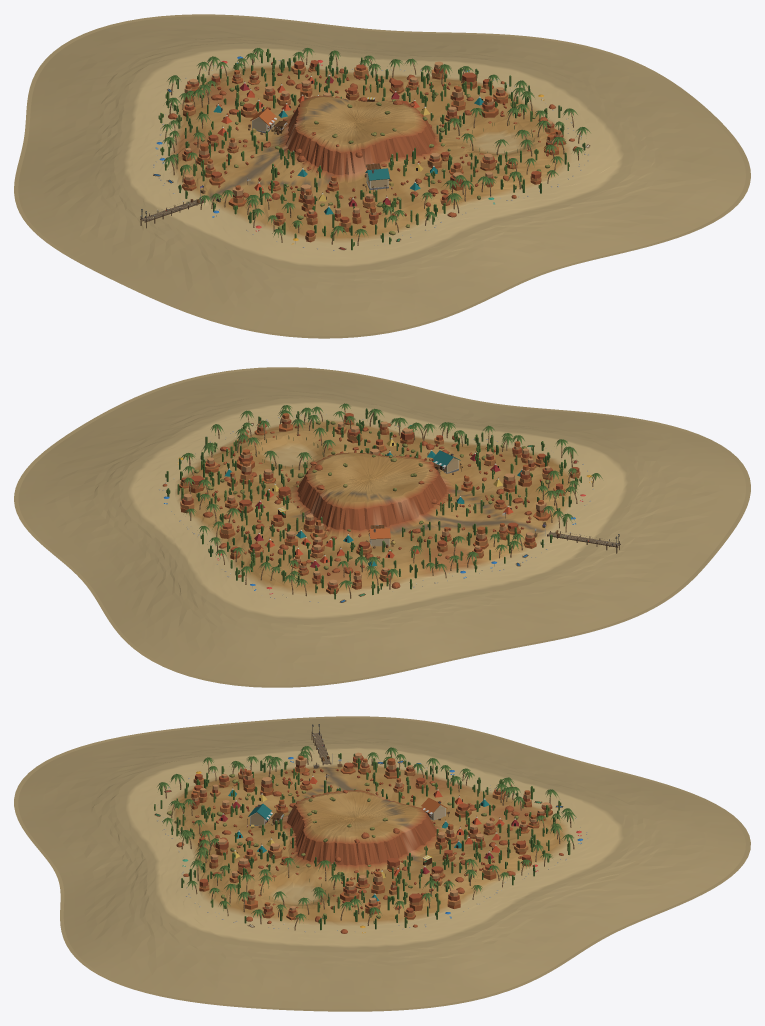
File: dune.glb
3 renders of one model, top to bottom at view 1: azimuth 30°, elevation 25°; view 2: azimuth 150°, elevation 25°; view 3: azimuth 270°, elevation 25°, orthographic. The views are drawn at different scales.
Parts seen in each view (by area): view 1: dune_13_-2, dune_12_-2, dune_14_-2, dune_12_-3, dune_13_-3, dune_14_-3, dune_13_-4, dune_13_-1, dune_12_-1, dune_14_-1, dune_12_-4, dune_15_-2 (+5 smaller); view 2: dune_13_-4, dune_13_-3, dune_12_-3, dune_12_-2, dune_14_-3, dune_14_-2, dune_13_-2, dune_12_-4, dune_14_-4, dune_12_-1, dune_15_-3, dune_13_-1 (+5 smaller); view 3: dune_14_-3, dune_14_-2, dune_13_-2, dune_13_-4, dune_13_-3, dune_12_-2, dune_12_-3, dune_14_-4, dune_13_-1, dune_15_-2, dune_15_-3, dune_14_-1 (+5 smaller).
Boxes of the visible parts, box(x1,y1,x2,y2) form: dune_13_-2: box(257, 115, 543, 262); dune_12_-2: box(76, 178, 366, 318); dune_14_-2: box(434, 102, 716, 220); dune_12_-3: box(14, 109, 256, 246); dune_13_-3: box(156, 51, 438, 180); dune_14_-3: box(332, 39, 614, 135); dune_13_-4: box(50, 14, 332, 110); dune_13_-1: box(356, 222, 584, 325); dune_12_-1: box(198, 264, 419, 338); dune_14_-1: box(536, 190, 737, 263); dune_12_-4: box(18, 52, 151, 163); dune_15_-2: box(614, 94, 750, 191); dune_13_-4: box(123, 539, 389, 687); dune_13_-3: box(215, 455, 491, 597); dune_12_-3: box(386, 518, 670, 646); dune_12_-2: box(493, 447, 746, 580); dune_14_-3: box(41, 441, 307, 555); dune_14_-2: box(140, 378, 418, 473); dune_13_-2: box(328, 411, 590, 518); dune_12_-4: box(287, 598, 526, 687); dune_14_-4: box(33, 524, 215, 641); dune_12_-1: box(591, 422, 750, 506); dune_15_-3: box(14, 435, 140, 526); dune_13_-1: box(419, 394, 656, 451); dune_14_-3: box(326, 859, 533, 974); dune_14_-2: box(130, 857, 337, 974); dune_13_-2: box(131, 770, 334, 881); dune_13_-4: box(524, 786, 732, 893); dune_13_-3: box(328, 776, 532, 874); dune_12_-2: box(124, 722, 336, 795); dune_12_-3: box(325, 721, 532, 792); dune_14_-4: box(522, 860, 711, 975); dune_13_-1: box(14, 791, 136, 894); dune_15_-2: box(130, 961, 339, 1011); dune_15_-3: box(326, 961, 529, 1011); dune_14_-1: box(60, 878, 138, 978).
Size of the model in its own units: 284 by 21.99 by 299.
